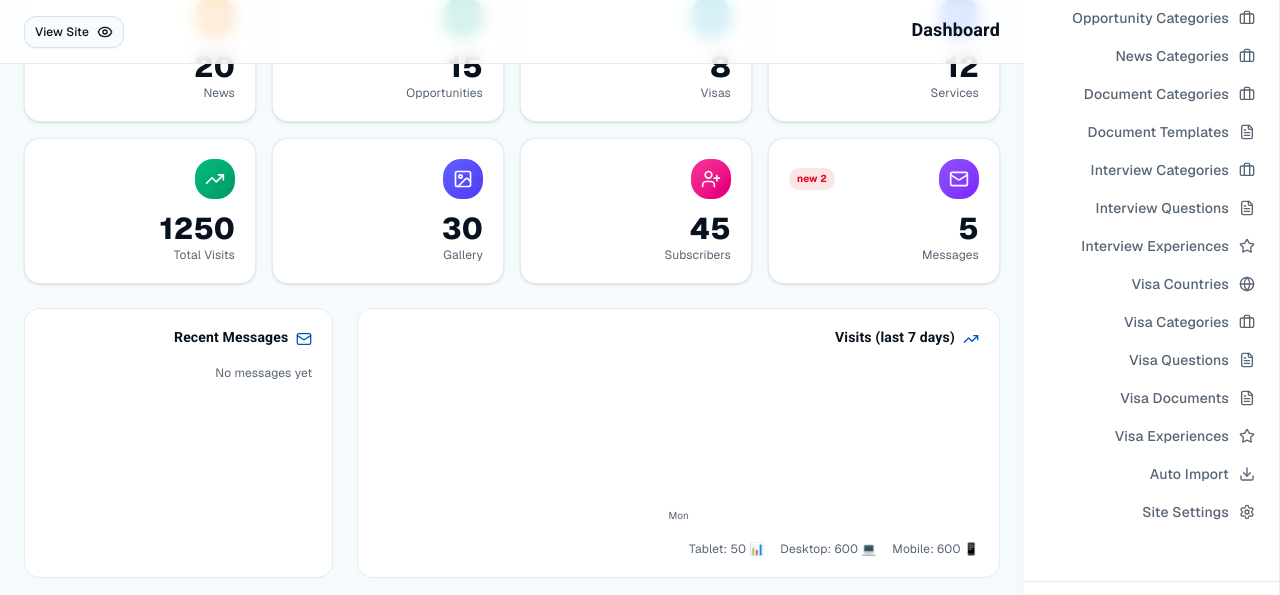
Test: Settings Panel Unit Tests › Section Headers - Requirement 7.3 › renders all section headers with English translations
This screenshot has width=1280, height=595.
(page scrolled)
Check: the text "Site Settings" is shown, box x1=1142 y1=502 x2=1229 y2=522
Click the button "Site Settings".
click(1152, 512)  # box x1=1036 y1=494 x2=1267 y2=530
(page scrolled)
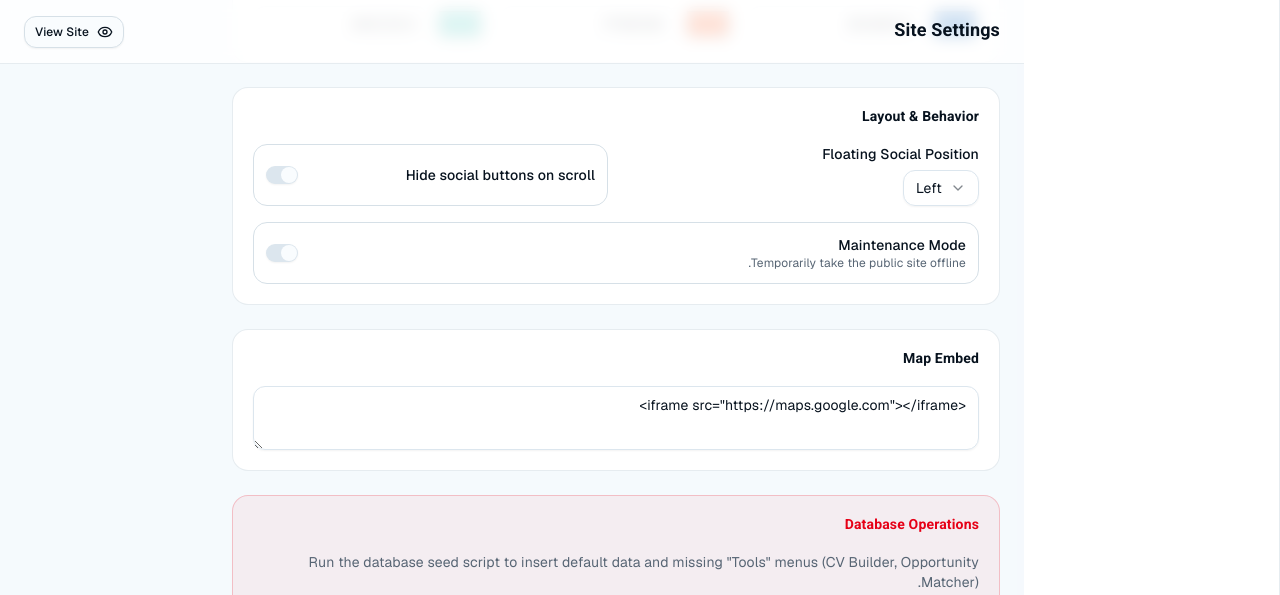
Check: the heading "Layout & Behavior" is shown, box x1=862 y1=107 x2=979 y2=129
Check: the heading "Map Embed" is shown, box x1=903 y1=349 x2=979 y2=371
